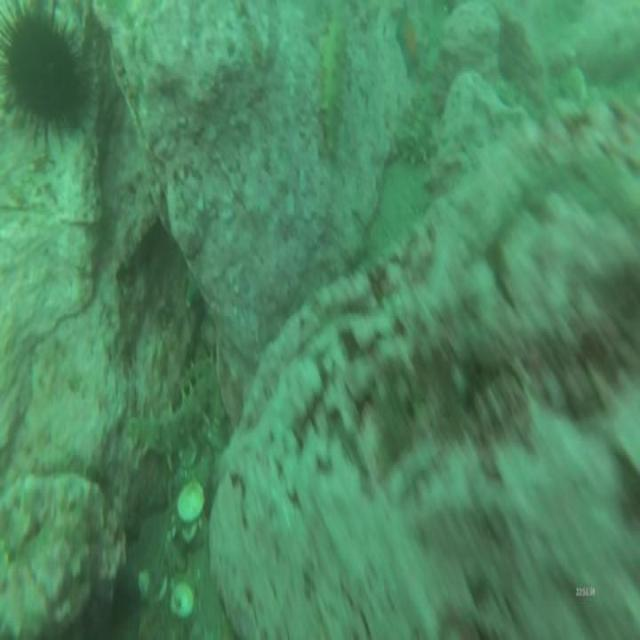echinus: (3, 16, 86, 126)
holothurian: (124, 362, 218, 460), (319, 24, 341, 142), (393, 96, 431, 163)
scallop: (177, 482, 203, 521), (170, 583, 193, 618)
starfish: (399, 11, 419, 71)
